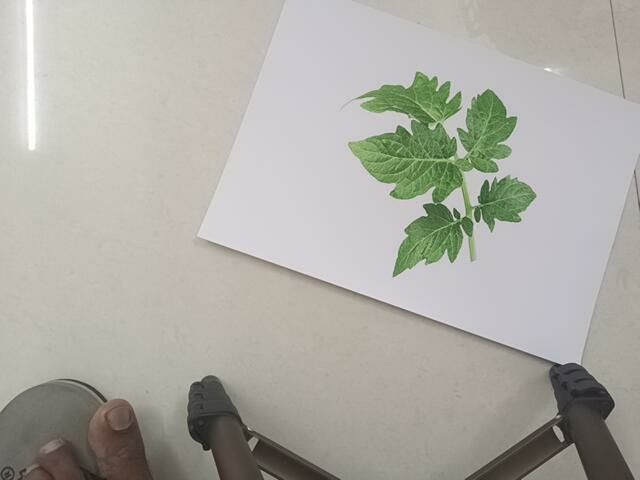Tomamto_Leaf_Healthy: (333, 71, 572, 294)
